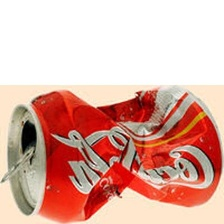can: (0, 86, 224, 222)
